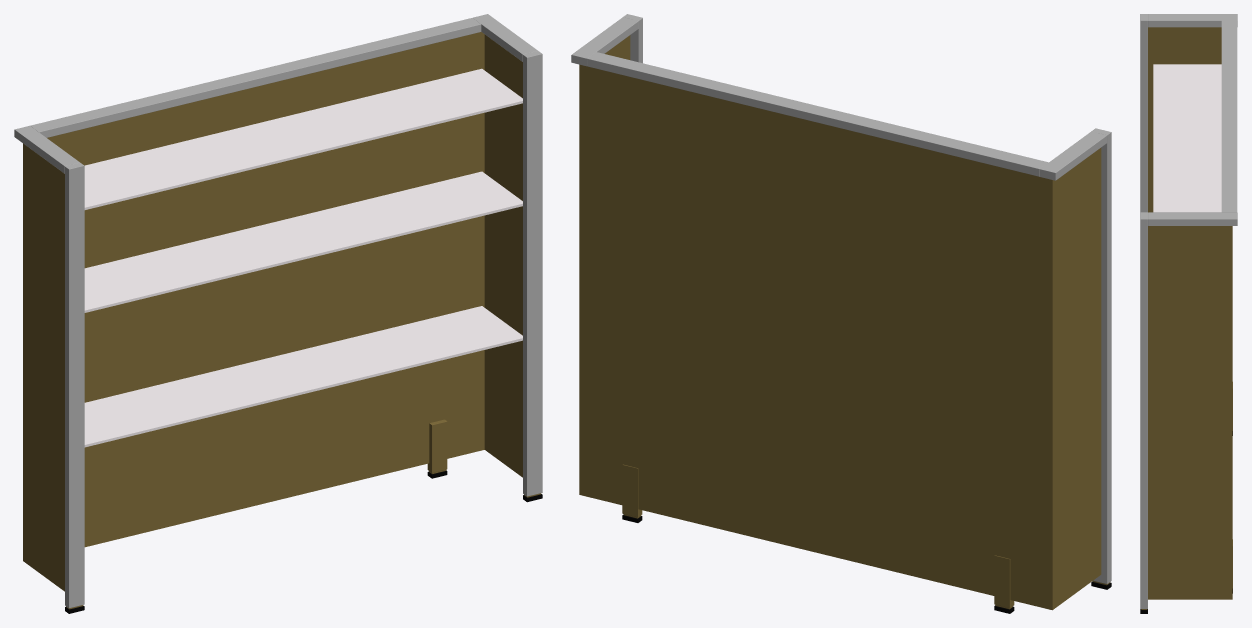
Rendered from Rack.FBX.
The picture shows the model from 3 angles, left to right: view 1: azimuth 30°, elevation 25°; view 2: azimuth 150°, elevation 25°; view 3: azimuth 270°, elevation 25°; orthographic projection. The views are drawn at different scales.
Parts seen in each view (by area): view 1: Layer:HAD-, Group07, Group08; view 2: Layer:HAD-, Group08, Group07; view 3: Layer:HAD-, Group08, Group07.
Boxes of the visible parts, bbox=[...] form: Layer:HAD-: bbox=[23, 32, 522, 591]; Group07: bbox=[66, 68, 541, 609]; Group08: bbox=[14, 14, 542, 613]; Layer:HAD-: bbox=[579, 35, 1101, 610]; Group08: bbox=[571, 14, 1111, 613]; Group07: bbox=[622, 464, 1110, 609]; Layer:HAD-: bbox=[1148, 27, 1232, 599]; Group08: bbox=[1140, 14, 1237, 613]; Group07: bbox=[1141, 64, 1232, 609].
Size of the model in its own units: 790 by 708 by 158.
